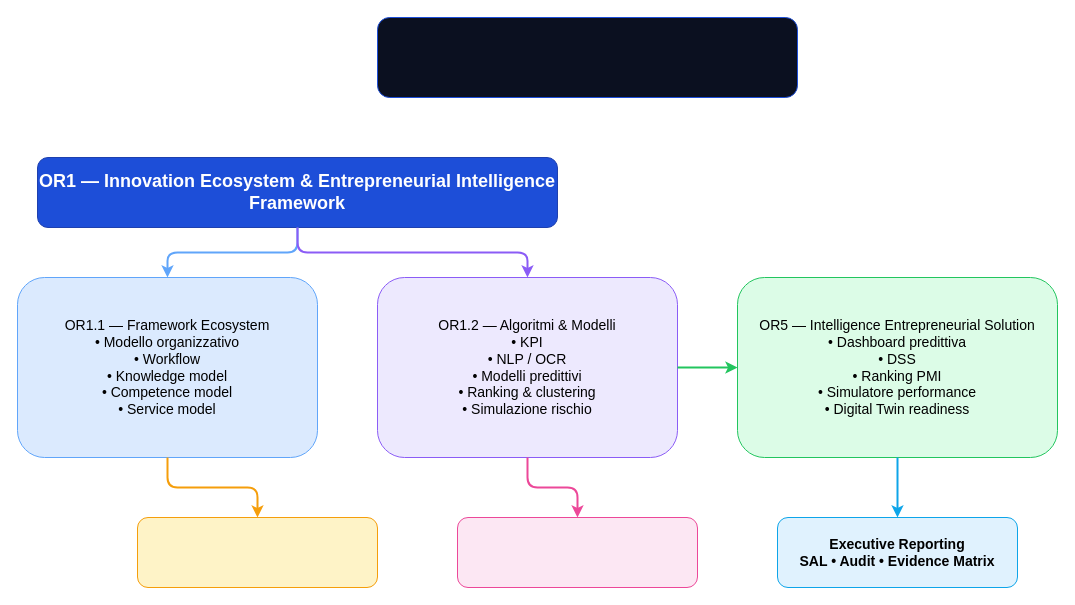
Some shapes in this 1075 by 605 pixel diagram are drawn without their labels. Here are the shapes that lost their labels. From the top down, the centre of each, then its label:
At [587,57]: "LUtech Campus Ecosystem Strategic Intelligence Platform".
At [257,552]: "Smart Mentoring & Learning".
At [577,552]: "Blockchain & Auditability".
